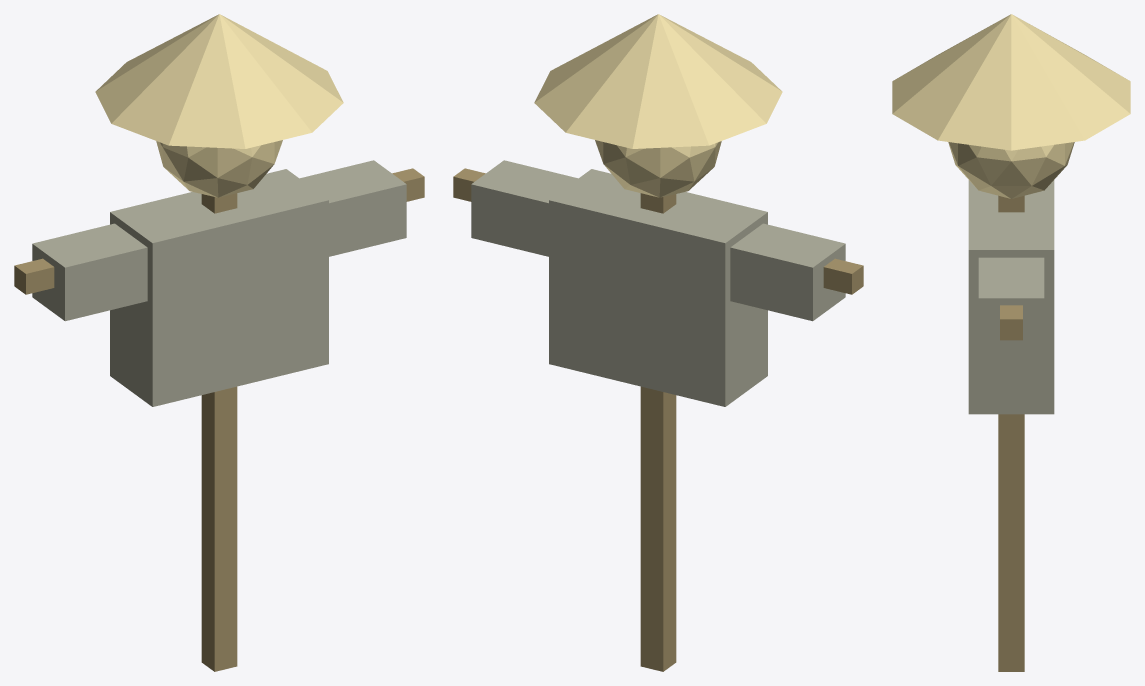
The model's file is scare_s2_02.glb.
The picture shows the model from 3 angles, left to right: view 1: azimuth 30°, elevation 25°; view 2: azimuth 150°, elevation 25°; view 3: azimuth 270°, elevation 25°; orthographic projection.
Parts seen in each view (by area): view 1: part01, part02, part00; view 2: part01, part02, part00; view 3: part02, part01, part00.
Boxes of the visible parts, left/top/right/bottom form: part01: left=32, top=160, right=406, bottom=406; part02: left=95, top=14, right=343, bottom=197; part00: left=14, top=168, right=424, bottom=671; part01: left=471, top=160, right=845, bottom=406; part02: left=534, top=14, right=782, bottom=197; part00: left=453, top=168, right=863, bottom=671; part02: left=892, top=14, right=1130, bottom=198; part01: left=968, top=180, right=1054, bottom=414; part00: left=998, top=195, right=1024, bottom=671.
Bounding box in the file's own units: 1.4 × 2.18 × 0.7228.
